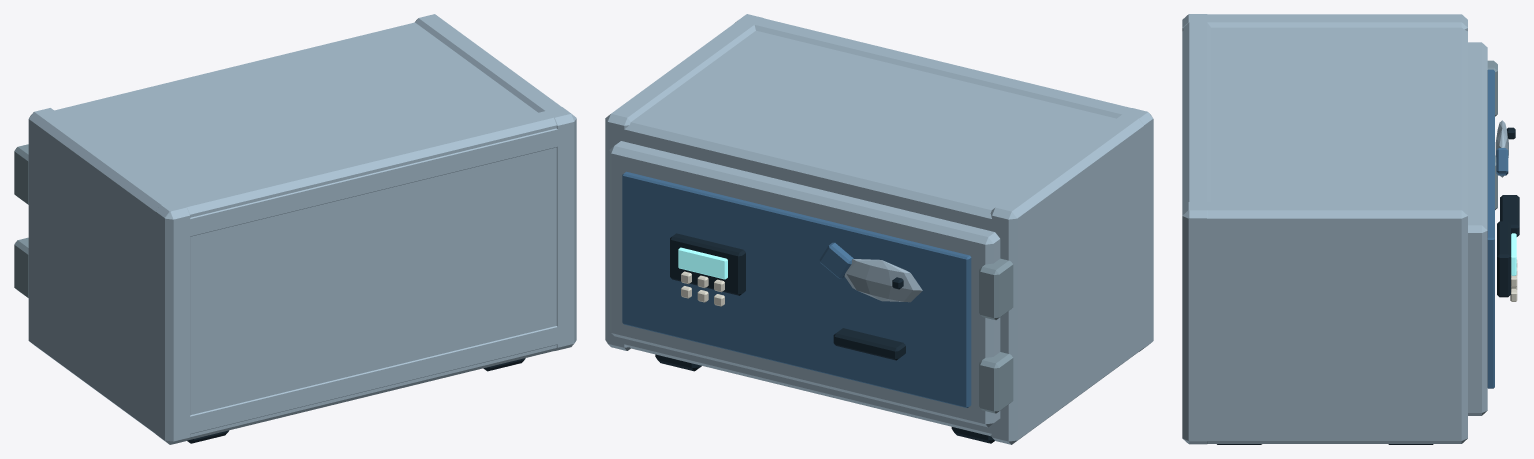
File: supply_case.glb
3 views of the same model, side by side, from view 1: azimuth 30°, elevation 25°; view 2: azimuth 150°, elevation 25°; view 3: azimuth 270°, elevation 25° (orthographic).
Parts seen in each view (by area): view 1: back, top, left, bottom, right, hinge (×2); view 2: top, inset, left, door_panel, back, bottom, right, hinge (×2), whale_badge, display, handle, screen (+1 smaller); view 3: right, top, door_panel, back, bottom, left, inset, display, handle, tail_left.
Part boxes in pixels (x1,y1,x2,y2): back: [155, 107, 575, 444]; top: [28, 22, 576, 240]; left: [28, 108, 190, 444]; bottom: [28, 320, 576, 437]; right: [415, 14, 576, 350]; hinge (×2): [14, 144, 28, 297]; top: [605, 30, 1153, 240]; inset: [622, 171, 971, 407]; left: [990, 108, 1153, 444]; door_panel: [609, 141, 1000, 427]; back: [735, 14, 1153, 351]; bottom: [605, 320, 1153, 437]; right: [605, 14, 763, 350]; hinge (×2): [979, 258, 1013, 413]; whale_badge: [844, 259, 922, 302]; display: [670, 233, 745, 295]; handle: [833, 328, 905, 360]; screen: [678, 247, 727, 279]; right: [1182, 202, 1467, 443]; top: [1182, 27, 1467, 239]; door_panel: [1468, 42, 1487, 415]; back: [1183, 14, 1210, 444]; bottom: [1182, 417, 1467, 437]; left: [1182, 14, 1467, 31]; inset: [1487, 69, 1494, 388]; display: [1497, 221, 1510, 297]; handle: [1500, 195, 1519, 236]; tail_left: [1496, 148, 1508, 175].
Size of the model in its own units: 1.2 by 0.7 by 0.85.
